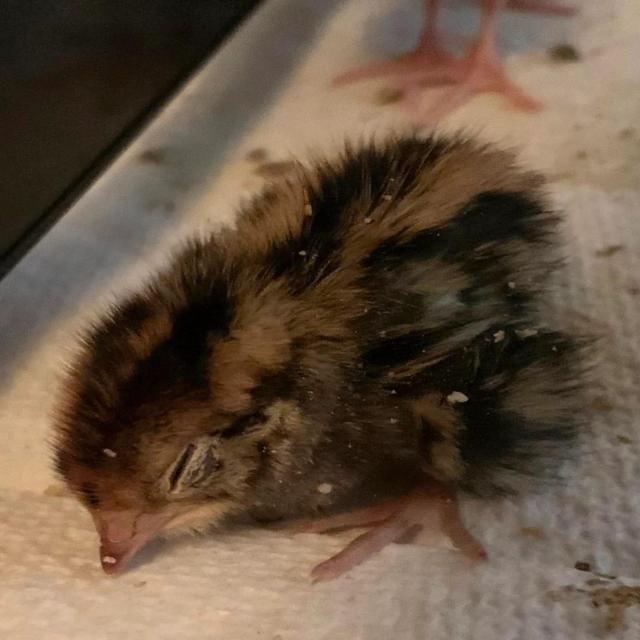poussin: (55, 130, 575, 595)
